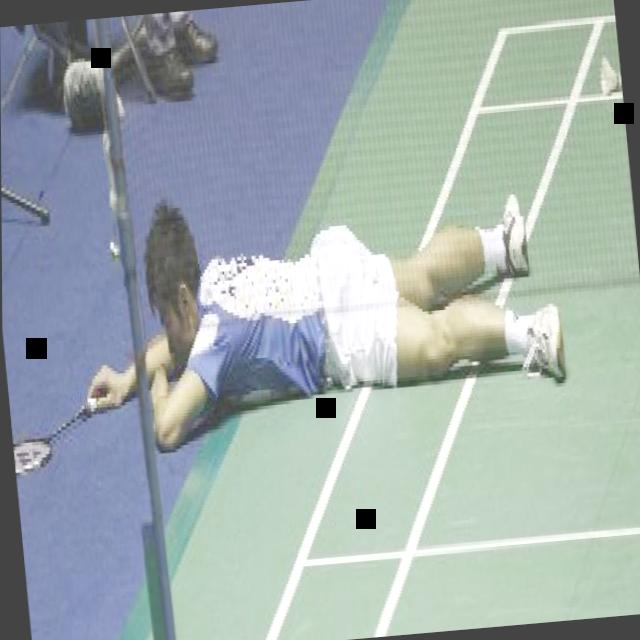Fall-Detected: (65, 122, 586, 452)
